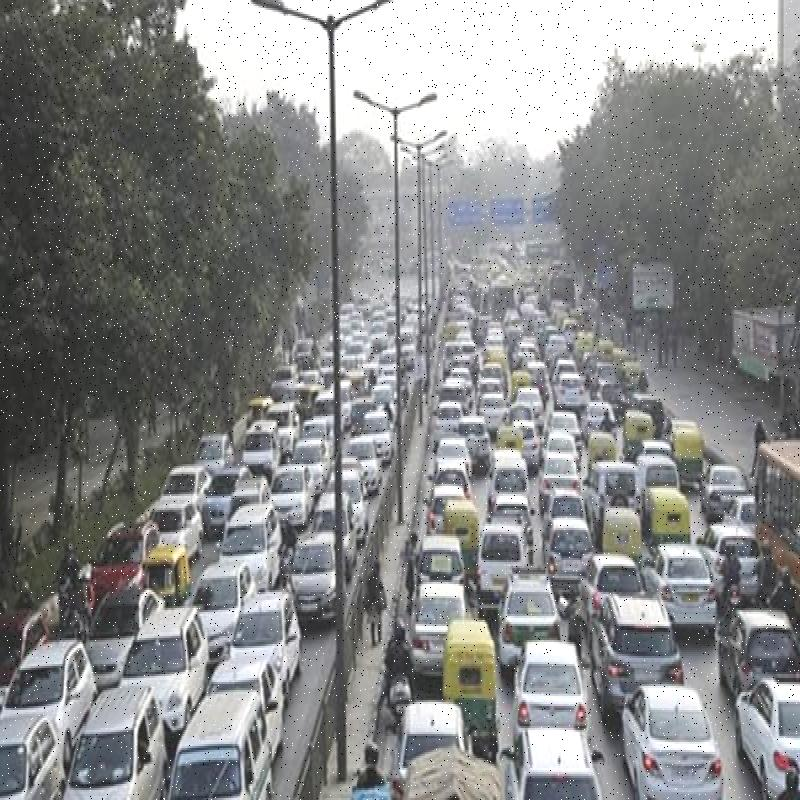car: (636, 682, 724, 800), (598, 595, 674, 716), (515, 635, 586, 739), (512, 718, 599, 800), (501, 573, 560, 681), (648, 537, 712, 630), (481, 522, 531, 610)
